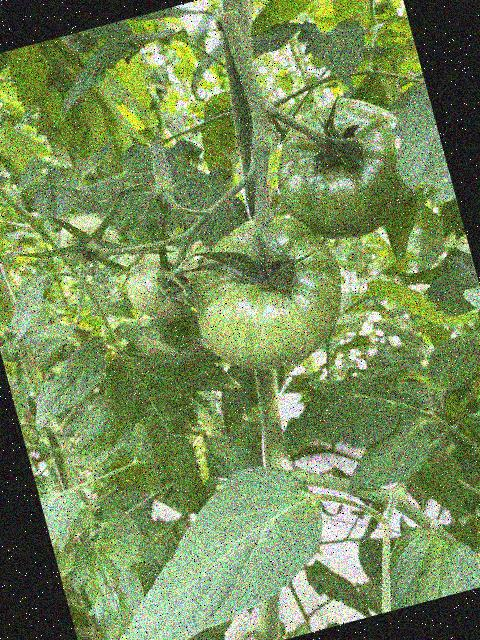b_green: (175, 200, 361, 385), (258, 83, 428, 254), (117, 238, 210, 329), (53, 209, 116, 270)
